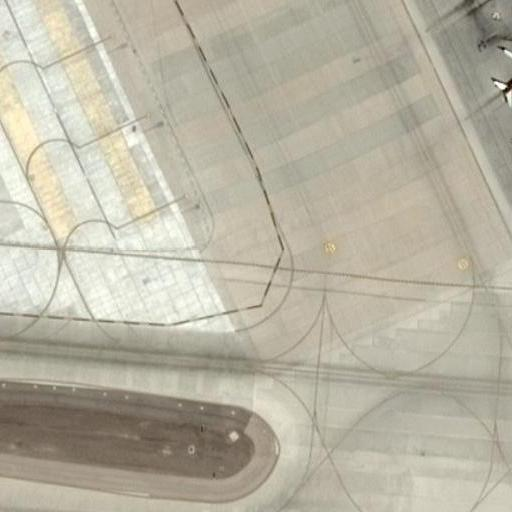Aircraft: (485, 41, 512, 111)
